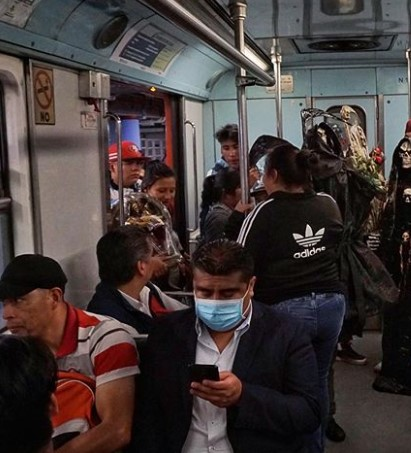face_no_mask: (97, 226, 156, 286), (263, 145, 306, 196), (144, 158, 177, 211), (216, 119, 249, 170)
face_with_mask: (191, 240, 256, 335)
